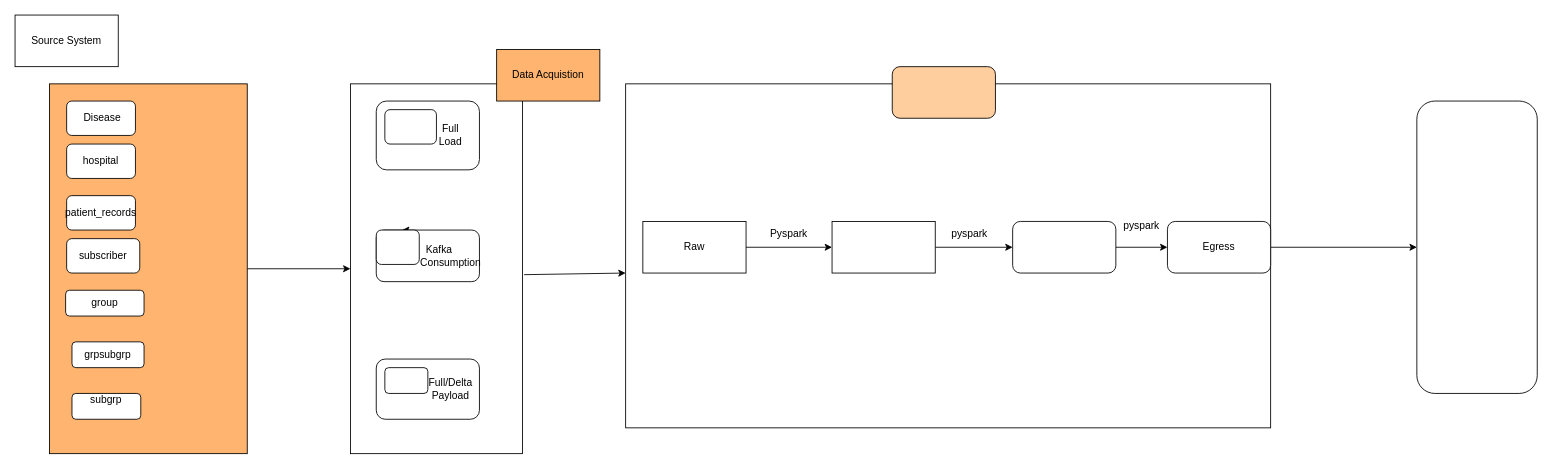
Some shapes in this 1552 by 469 pixel diagram are drawn without their labels. The box of each missing label's shape, as (x1, y1, x2, y2) in pixels:
API Ingest: (384, 367, 428, 393)
Bulk ingest: (384, 109, 436, 144)
Consumers: (1416, 100, 1537, 393)
curated: (831, 221, 935, 273)
Data Storage and Processing: (891, 66, 995, 118)
Integrated: (1012, 221, 1116, 273)
Stream ingest: (375, 229, 419, 264)
